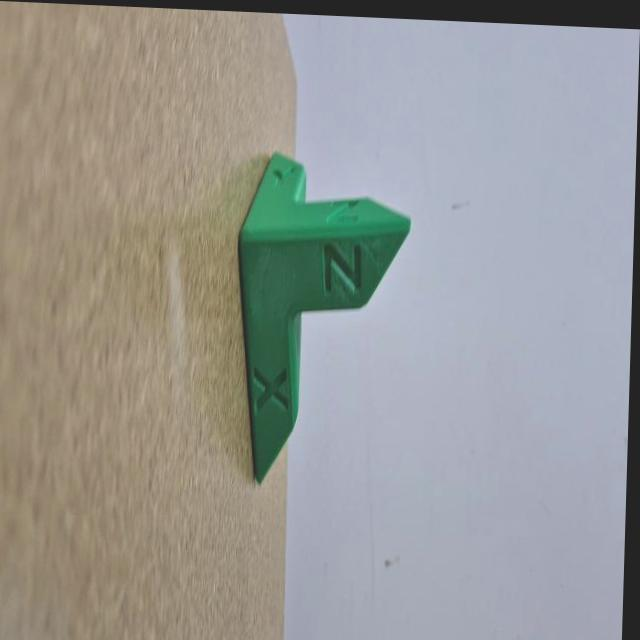eje: (227, 144, 420, 503)
